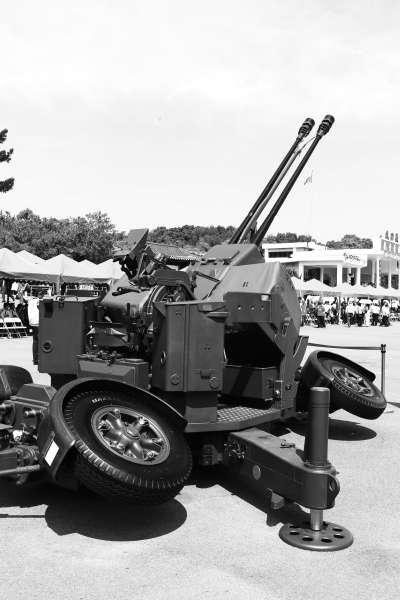MIL_SPG: (0, 116, 386, 550)
